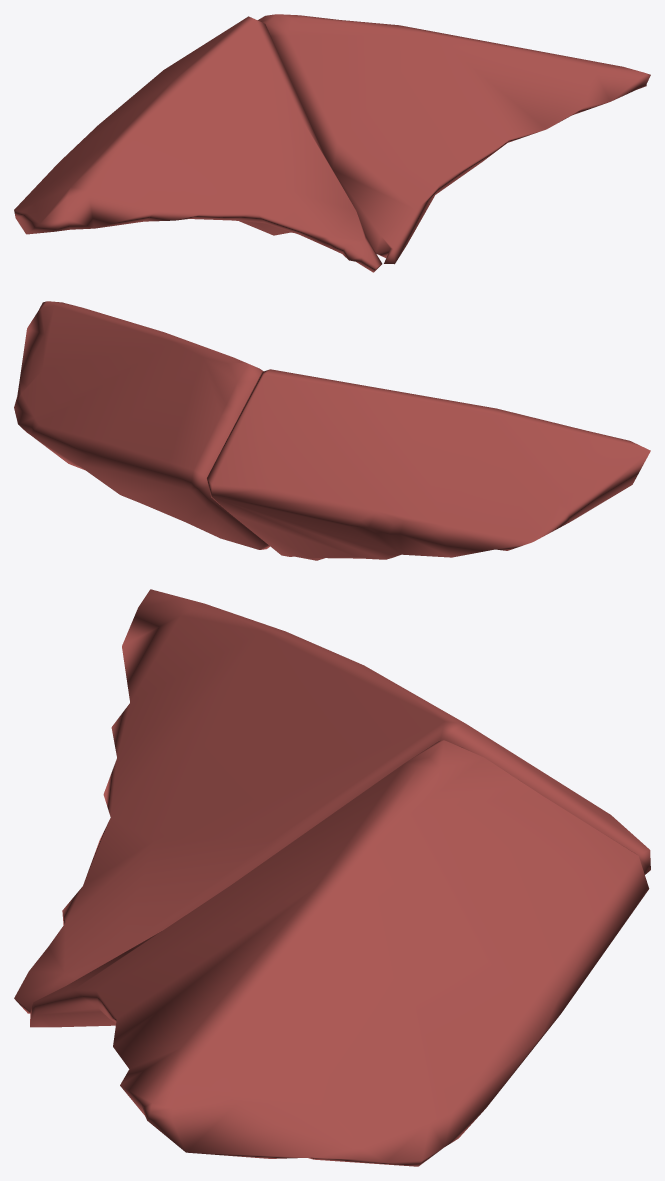
File: FMA83740.glb
The picture shows the model from 3 angles, top to bottom: view 1: azimuth 30°, elevation 25°; view 2: azimuth 150°, elevation 25°; view 3: azimuth 270°, elevation 25°; orthographic projection. The views are drawn at different scales.
Parts seen in each view (by area): view 1: FMA83740; view 2: FMA83740; view 3: FMA83740.
Part boxes in pixels (box(x1,y1,x2,y2)): FMA83740: box(14, 14, 650, 272); FMA83740: box(14, 301, 650, 560); FMA83740: box(14, 589, 650, 1166).
Bounding box in the file's own units: 0.0045 × 0.00141 × 0.00229.
